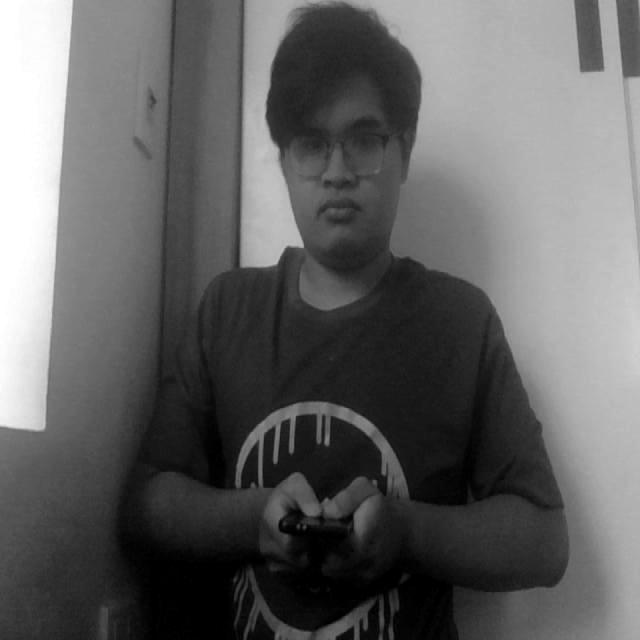phone: (274, 488, 364, 570)
